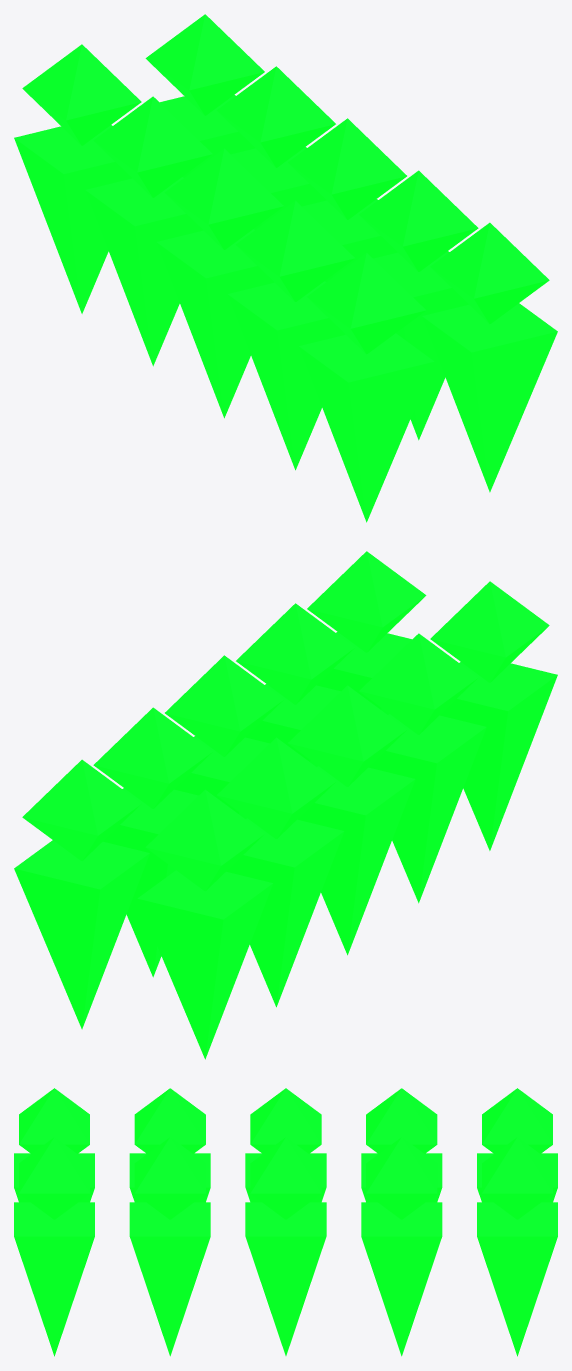
Rendered from person_g10.glb.
The picture shows the model from 3 angles, top to bottom: view 1: azimuth 30°, elevation 25°; view 2: azimuth 150°, elevation 25°; view 3: azimuth 270°, elevation 25°; orthographic projection. The views are drawn at different scales.
Visible parts, largest first — view 1: person.012, person.011, person.016, person.018, person.020, person.014, person.013, person.019, person.017, person.015; view 2: person.020, person.019, person.016, person.012, person.014, person.018, person.017, person.011, person.013, person.015; view 3: person.013, person.015, person.017, person.011, person.019, person.016, person.014, person.018, person.012, person.020.
Part boxes in pixels (x1=…): person.012: x1=299, y1=252, x2=434, y2=522; person.011: x1=422, y1=222, x2=557, y2=492; person.016: x1=156, y1=148, x2=283, y2=418; person.018: x1=85, y1=96, x2=212, y2=366; person.020: x1=14, y1=44, x2=141, y2=313; person.014: x1=227, y1=200, x2=354, y2=470; person.013: x1=359, y1=170, x2=478, y2=440; person.019: x1=145, y1=14, x2=264, y2=177; person.017: x1=217, y1=66, x2=335, y2=229; person.015: x1=288, y1=118, x2=406, y2=281; person.020: x1=137, y1=789, x2=272, y2=1059; person.019: x1=14, y1=759, x2=149, y2=1029; person.016: x1=288, y1=685, x2=415, y2=955; person.012: x1=430, y1=581, x2=557, y2=850; person.014: x1=359, y1=633, x2=486, y2=903; person.018: x1=217, y1=737, x2=344, y2=1007; person.017: x1=93, y1=707, x2=212, y2=977; person.011: x1=307, y1=551, x2=426, y2=714; person.013: x1=236, y1=603, x2=354, y2=766; person.015: x1=165, y1=655, x2=283, y2=818; person.013: x1=129, y1=1137, x2=210, y2=1356; person.015: x1=245, y1=1137, x2=326, y2=1355; person.017: x1=361, y1=1137, x2=442, y2=1356; person.011: x1=14, y1=1137, x2=94, y2=1356; person.019: x1=477, y1=1137, x2=557, y2=1356; person.016: x1=245, y1=1088, x2=326, y2=1202; person.014: x1=129, y1=1088, x2=210, y2=1202; person.018: x1=361, y1=1088, x2=442, y2=1202; person.012: x1=14, y1=1088, x2=94, y2=1202; person.020: x1=477, y1=1088, x2=557, y2=1202.
Bounding box in the file's own units: 1.7 × 2.1 × 4.7.
